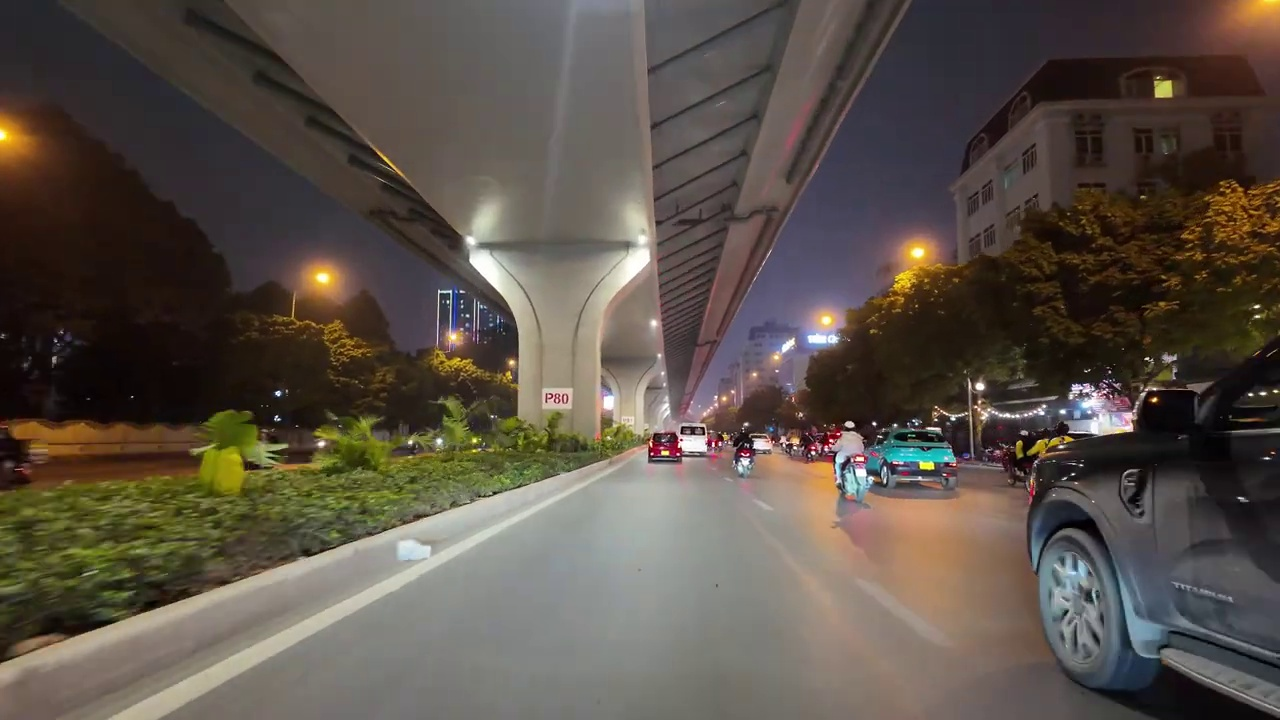acesa: (467, 200, 502, 241), (0, 115, 25, 161), (305, 262, 340, 294), (901, 240, 933, 267), (813, 308, 839, 330)
